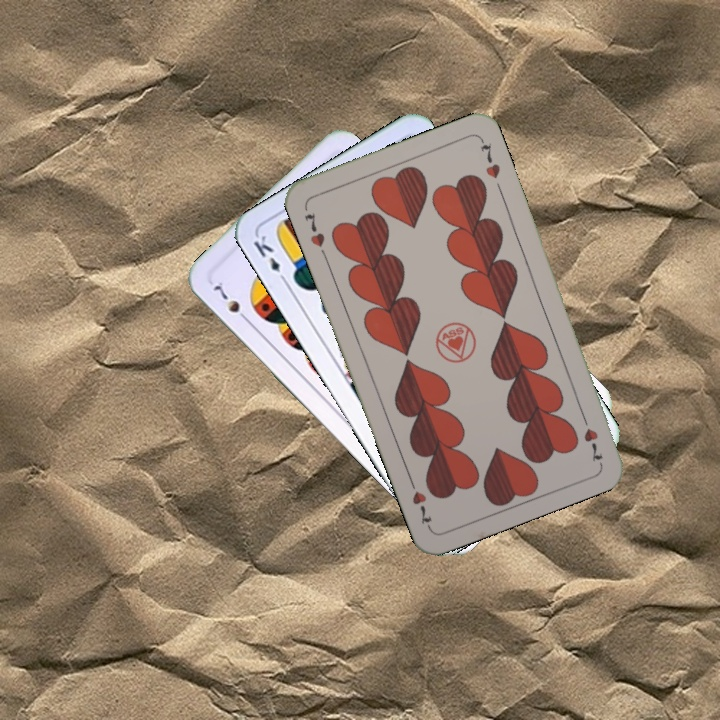EK: (249, 231, 290, 287)
H7: (577, 408, 606, 466), (300, 208, 330, 260)
S7: (210, 277, 253, 326)
